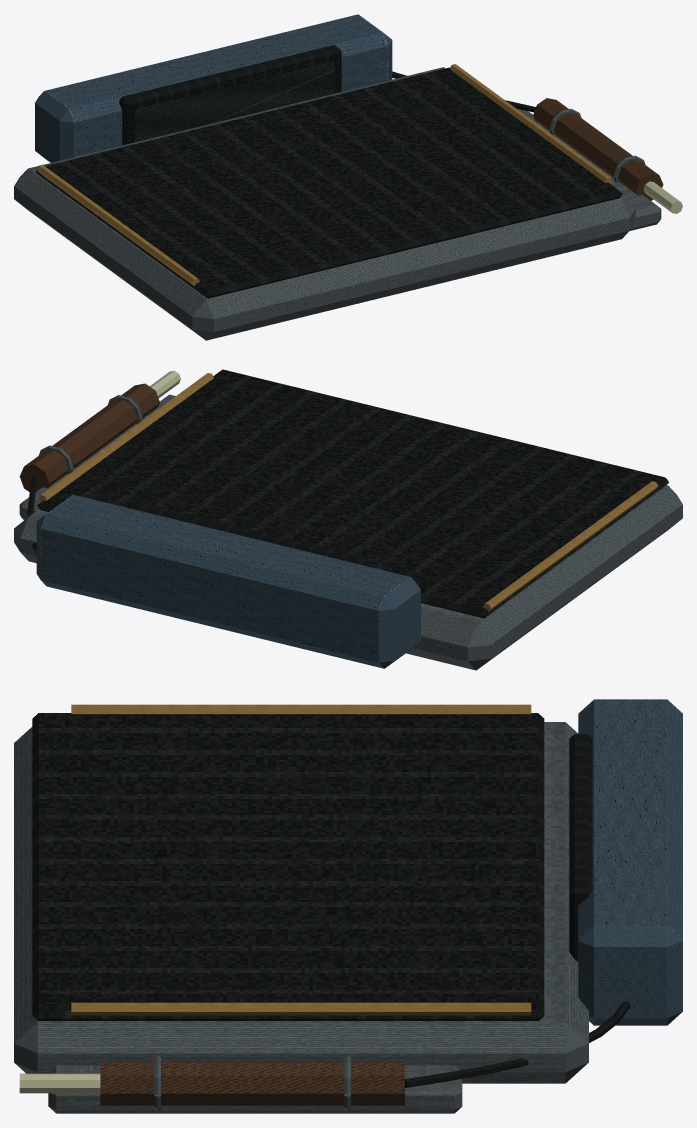
File: blender_object_imprint_scanner_2.glb
3 renders of one model, top to bottom at view 1: azimuth 30°, elevation 25°; view 2: azimuth 150°, elevation 25°; view 3: azimuth 270°, elevation 25°, orthographic. The views are drawn at different scales.
Parts seen in each view (by area): view 1: blender_object_imprint_scanner_2; view 2: blender_object_imprint_scanner_2; view 3: blender_object_imprint_scanner_2.
Part boxes in pixels (box(x1,y1,x2,y2)): blender_object_imprint_scanner_2: box(14, 14, 682, 340); blender_object_imprint_scanner_2: box(14, 369, 682, 670); blender_object_imprint_scanner_2: box(14, 699, 682, 1113).
Bounding box in the file's own units: 0.3239 × 0.055 × 0.256.
Materials: 7 (7 with a texture image).
